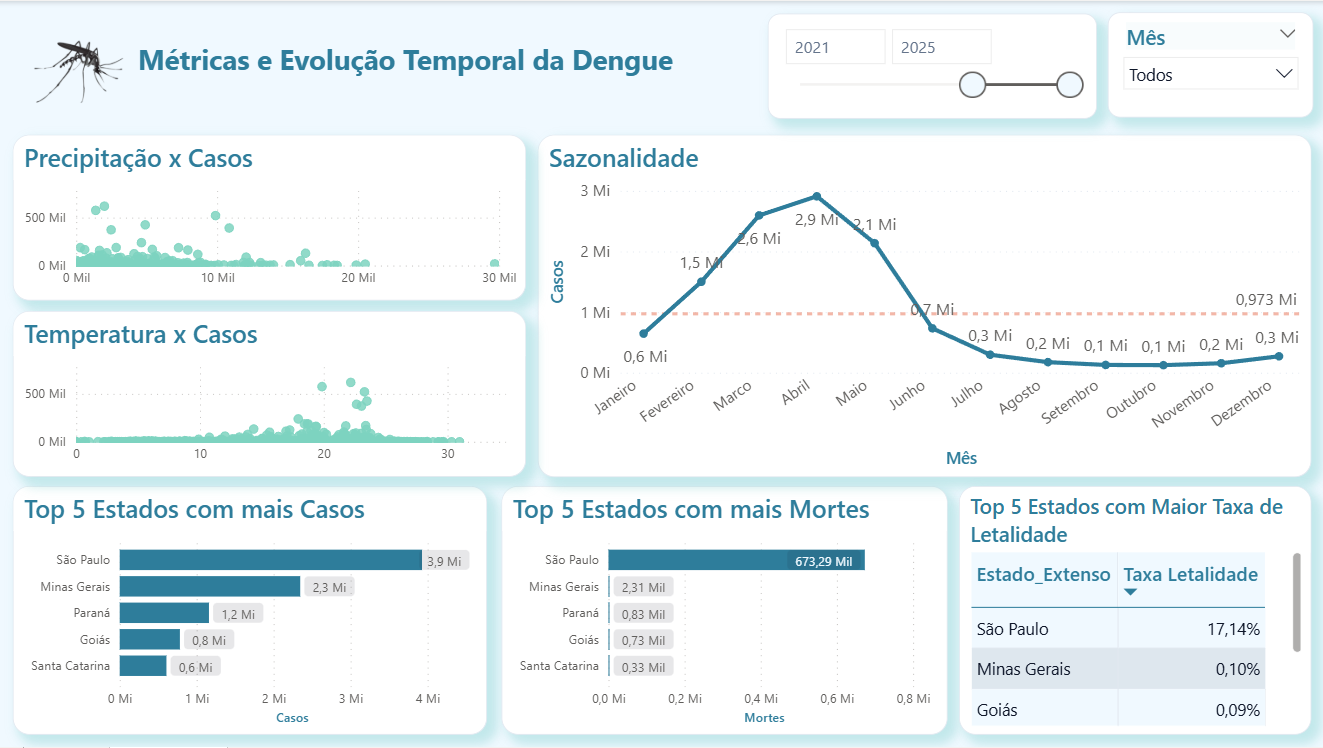

Layout of this report page (visuals, bound fields, positions):
{"tool":"powerbi","page":{"name":"Específico","canvas":[1280,720],"ordinal":1},"visuals":[{"type":"clusteredBarChart","title":"Top 5 Estados com mais Casos","fields":{"Category":["dengue_db_dengue_dados_enriquecidos.Estado_Extenso"],"Y":["Sum(dengue_db_dengue_dados_enriquecidos.casos)"]},"box":[13.8,467.5,457.5,240],"z":0},{"type":"clusteredBarChart","title":"Top 5 Estados com mais Mortes","fields":{"Category":["dengue_db_dengue_dados_enriquecidos.Estado_Extenso"],"Y":["Sum(dengue_db_dengue_dados_enriquecidos.mortes)"]},"box":[485,467.5,430,240],"z":1000},{"type":"lineChart","title":"Sazonalidade","fields":{"Category":["dengue_db_dengue_dados_enriquecidos.mes"],"Y":["Sum(dengue_db_dengue_dados_enriquecidos.casos)"]},"box":[520,128.8,746.2,330],"z":2000},{"type":"scatterChart","title":"Precipitação x Casos","fields":{"X":["dengue_db_dengue_dados_enriquecidos.precipitacao"],"Y":["dengue_db_dengue_dados_enriquecidos.casos"]},"box":[13.8,128.8,495,160],"z":3000},{"type":"scatterChart","title":"Temperatura x Casos","fields":{"Y":["dengue_db_dengue_dados_enriquecidos.casos"],"X":["dengue_db_dengue_dados_enriquecidos.temperatura"]},"box":[13.8,298.8,495,160],"z":4000},{"type":"tableEx","title":"Top 5 Estados com Maior Taxa de Letalidade","fields":{"Values":["dengue_db_dengue_dados_enriquecidos.Estado_Extenso","dengue_db_dengue_dados_enriquecidos.Taxa_Letalidade"]},"box":[926.2,467.5,340,240],"z":5000},{"type":"image","box":[21.2,11.2,107.5,106.2],"z":7000},{"type":"textbox","box":[128.8,32.5,823.8,65],"z":8000},{"type":"slicer","fields":{"Values":["Calendario.Date.Variation.Hierarquia de datas.Ano"]},"box":[741.2,12.5,317.5,101.2],"z":8001},{"type":"slicer","fields":{"Values":["dengue_db_dengue_dados_enriquecidos.mes"]},"box":[1070,11.2,198.8,101.2],"z":8002}]}

Visuals, with their boxes in screenshot pixels (x1, y1, x2, y2), scaled from the page's 1280x720 canvas onto the 1323x748 screenshot:
"Top 5 Estados com mais Casos" clusteredBarChart: x1=14, y1=486, x2=487, y2=735
"Top 5 Estados com mais Mortes" clusteredBarChart: x1=501, y1=486, x2=946, y2=735
"Sazonalidade" lineChart: x1=537, y1=134, x2=1309, y2=477
"Precipitação x Casos" scatterChart: x1=14, y1=134, x2=526, y2=300
"Temperatura x Casos" scatterChart: x1=14, y1=310, x2=526, y2=477
"Top 5 Estados com Maior Taxa de Letalidade" tableEx: x1=957, y1=486, x2=1309, y2=735
image: x1=22, y1=12, x2=133, y2=122
textbox: x1=133, y1=34, x2=985, y2=101
slicer - Calendario.Date.Variation.Hierarquia de datas.Ano: x1=766, y1=13, x2=1094, y2=118
slicer - dengue_db_dengue_dados_enriquecidos.mes: x1=1106, y1=12, x2=1311, y2=117
